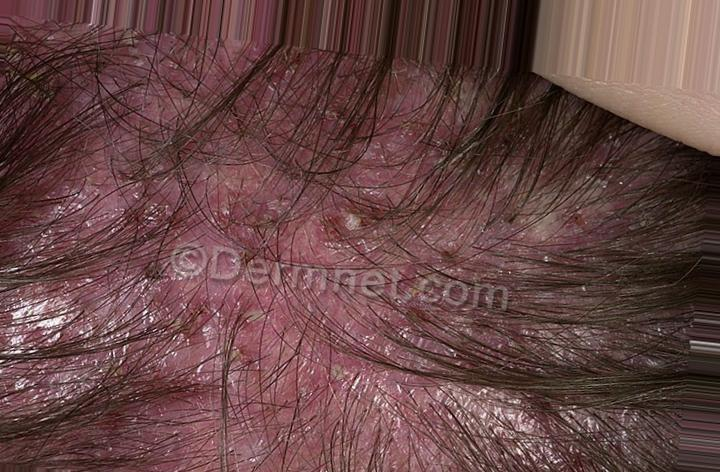Folliculitis: (124, 95, 439, 454)
